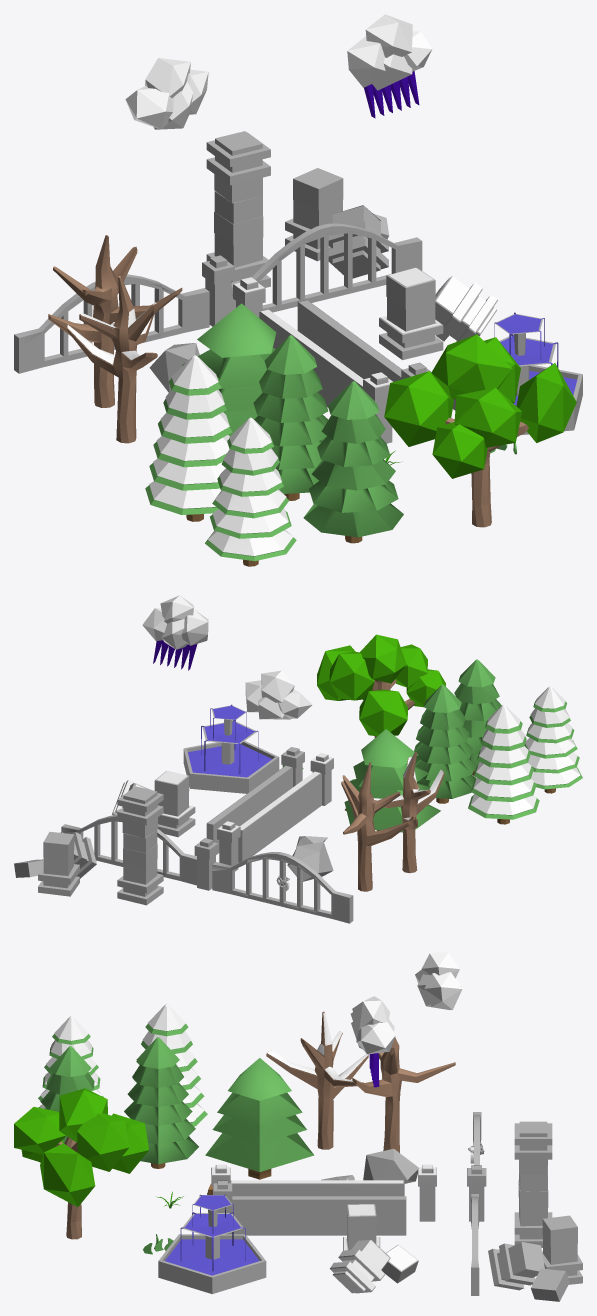
Rendered from tree.glb.
The picture shows the model from 3 angles, top to bottom: view 1: azimuth 30°, elevation 25°; view 2: azimuth 150°, elevation 25°; view 3: azimuth 270°, elevation 25°; orthographic projection. The views are drawn at different scales.
Visible parts, largest first — view 1: pasted__pCylinder2, pasted__pCylinder1.003, pasted__pCylinder1.005, pasted__pCylinder1.006, pasted__pCylinder1.002, pasted__pCube6.001, pasted__pCube4, pasted__pCube2, pasted__pCube6, pasted__pCylinder1.001, pasted__group_pasted__pSolid1, group8 (+11 smaller); view 2: pasted__pCylinder2, pasted__pCylinder1.005, pasted__pPlane2, pasted__pCylinder1.002, pasted__pCube4, pasted__pCylinder1.006, group8, pasted__pCube1.005, pasted__pCylinder1.001, pasted__pCube6, pasted__group_pasted__pSolid1, pasted__pCylinder1 (+12 smaller); view 3: pasted__pCylinder2, pasted__pCylinder1.001, pasted__pPlane2, pasted__pCube1.006, pasted__pCylinder1.002, pasted__pCube6, pasted__pCube6.001, pasted__pCube4, pasted__pCylinder1.004, pasted__pCube1.005, pasted__pCylinder1.005, pasted__pCylinder1 (+10 smaller).
Part boxes in pixels (x1,y1,x2,y2): pasted__pCylinder2: (384,334,576,527); pasted__pCylinder1.003: (303,381,403,543); pasted__pCylinder1.005: (145,355,232,521); pasted__pCylinder1.006: (205,417,296,566); pasted__pCylinder1.002: (253,335,328,500); pasted__pCube6.001: (379,267,497,360); pasted__pCube4: (206,131,270,287); pasted__pCube2: (231,223,422,312); pasted__pCube6: (285,168,389,278); pasted__pCylinder1.001: (182,303,276,436); pasted__group_pasted__pSolid1: (347,14,432,118); group8: (14,274,209,373); pasted__pCylinder2: (317,634,445,737); pasted__pCylinder1.005: (468,704,539,824); pasted__pPlane2: (183,704,279,793); pasted__pCylinder1.002: (414,684,476,803); pasted__pCube4: (117,786,163,905); pasted__pCylinder1.006: (524,686,582,793); group8: (212,852,353,923); pasted__pCube1.005: (238,753,333,862); pasted__pCylinder1.001: (344,729,440,832); pasted__pCube6: (14,831,96,896); pasted__group_pasted__pSolid1: (142,595,208,670); pasted__pCylinder1: (341,762,410,891); pasted__pCylinder2: (14,1088,148,1239); pasted__pCylinder1.001: (205,1058,314,1179); pasted__pPlane2: (158,1194,266,1294); pasted__pCube1.006: (213,1180,406,1235); pasted__pCylinder1.002: (124,1037,198,1168); pasted__pCube6: (488,1215,582,1301); pasted__pCube6.001: (330,1204,418,1293); pasted__pCube4: (514,1121,552,1247); pasted__pCylinder1.004: (266,1011,368,1149); pasted__pCube1.005: (211,1164,404,1196); pasted__pCylinder1.005: (126,1003,207,1126); pasted__pCylinder1: (352,1037,455,1152).
Size of the model in its own units: 20.6 by 14.07 by 26.57.
